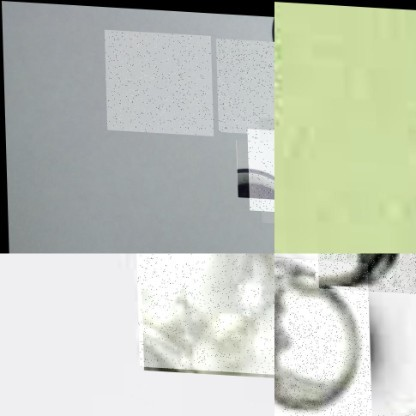ironball: (134, 253, 274, 372), (274, 253, 370, 415), (104, 27, 212, 132), (215, 34, 274, 132), (316, 253, 415, 289), (246, 124, 274, 209)
